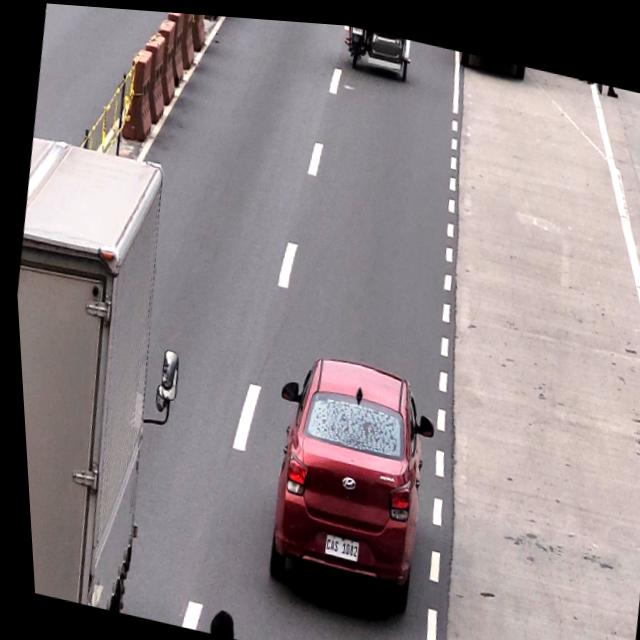Car: (253, 346, 437, 604)
License-Plate: (316, 530, 356, 559)
Truck: (6, 130, 187, 616)
